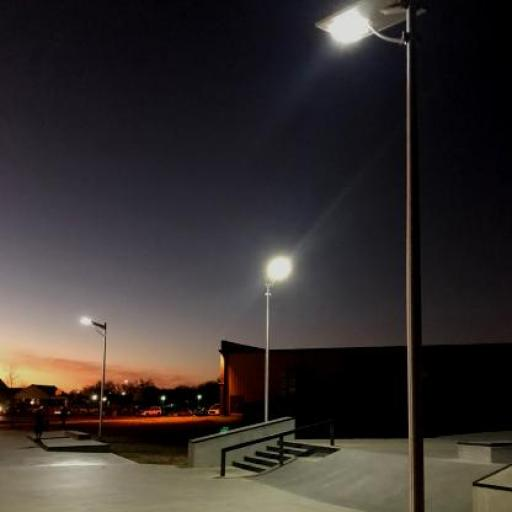street light: (314, 4, 428, 511), (263, 256, 291, 422), (79, 316, 108, 440), (123, 380, 132, 410), (161, 396, 169, 410), (197, 394, 202, 407)
